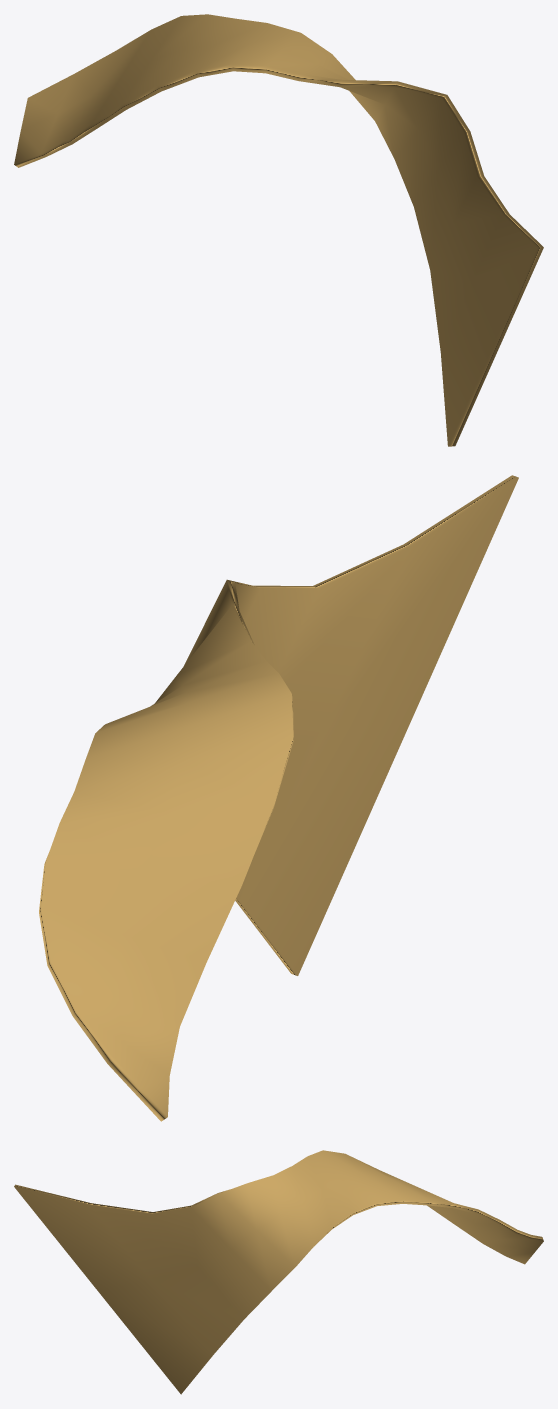
3 views of the same model, one above another, from view 1: azimuth 30°, elevation 25°; view 2: azimuth 150°, elevation 25°; view 3: azimuth 270°, elevation 25° (orthographic). The views are drawn at different scales.
Visible parts, largest first — view 1: 右侧骶髂骨间韧带; view 2: 右侧骶髂骨间韧带; view 3: 右侧骶髂骨间韧带.
Boxes of the visible parts, x1=… form: 右侧骶髂骨间韧带: x1=14, y1=14, x2=543, y2=446; 右侧骶髂骨间韧带: x1=39, y1=475, x2=518, y2=1121; 右侧骶髂骨间韧带: x1=14, y1=1150, x2=543, y2=1394.
Size of the model in its own units: 0.0232 by 0.0349 by 0.0797.
